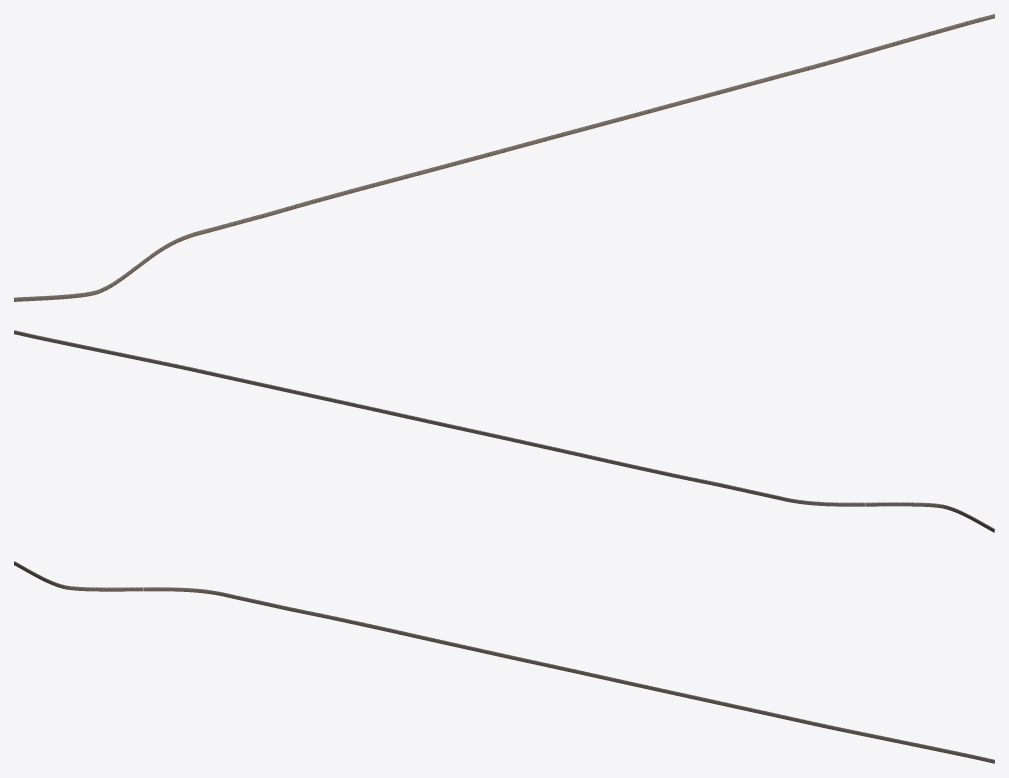
3 views of the same model, one above another, from view 1: azimuth 30°, elevation 25°; view 2: azimuth 150°, elevation 25°; view 3: azimuth 330°, elevation 25° (orthographic). The views are drawn at different scales.
Visible parts, largest first — view 1: MuroSur; view 2: MuroSur; view 3: MuroSur.
Boxes of the visible parts, x1,y1,x2,y2 form: MuroSur: (14, 14, 994, 301); MuroSur: (14, 330, 994, 532); MuroSur: (14, 561, 994, 763).
Size of the model in its own units: 189 by 0.7369 by 18.87.
1 material, 1 textured.
